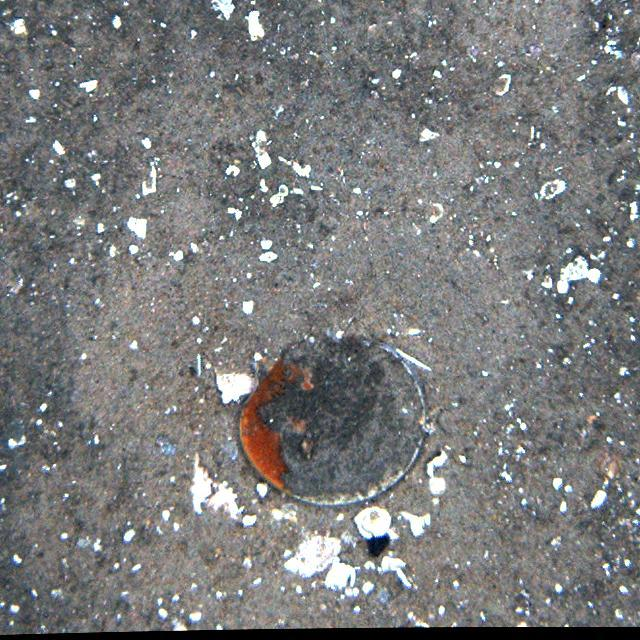scallop: (238, 330, 431, 507)
